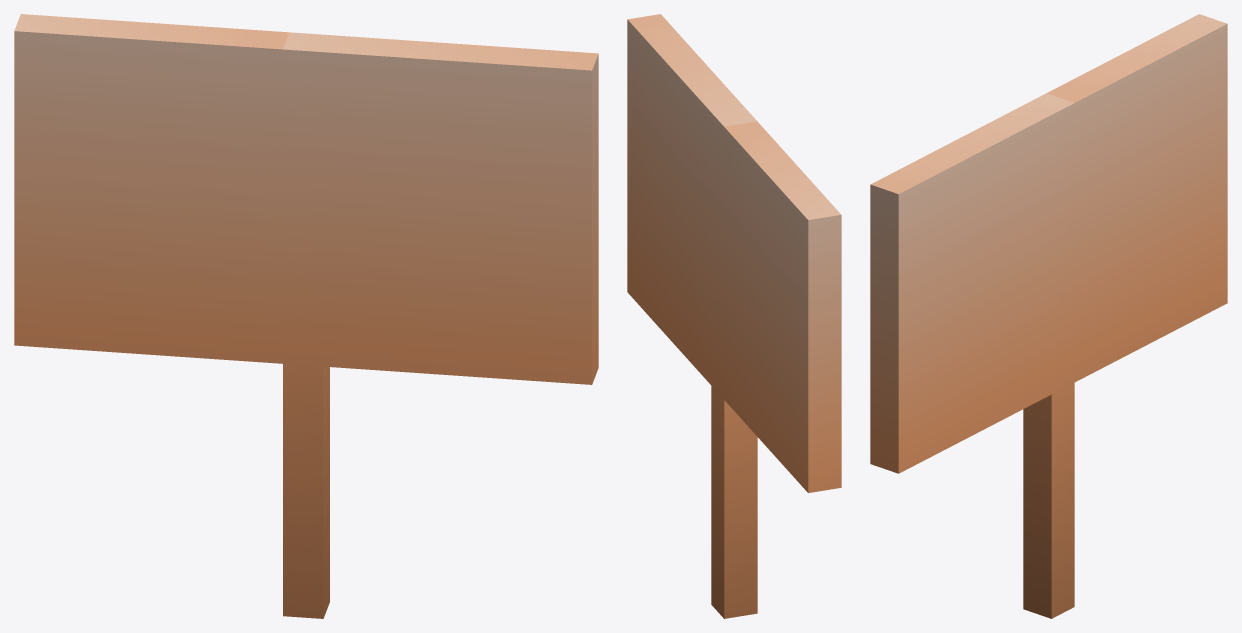
File: Smooth (1).fbx
3 views of the same model, side by side, from view 1: azimuth 30°, elevation 25°; view 2: azimuth 150°, elevation 25°; view 3: azimuth 270°, elevation 25° (orthographic). The views are drawn at different scales.
Visible parts, largest first — view 1: Cube.001; view 2: Cube.001; view 3: Cube.001.
Boxes of the visible parts, x1,y1,x2,y2 form: Cube.001: (14,14,598,618); Cube.001: (627,14,841,618); Cube.001: (870,14,1227,618).
Size of the model in its own units: 238 by 310 by 199.
